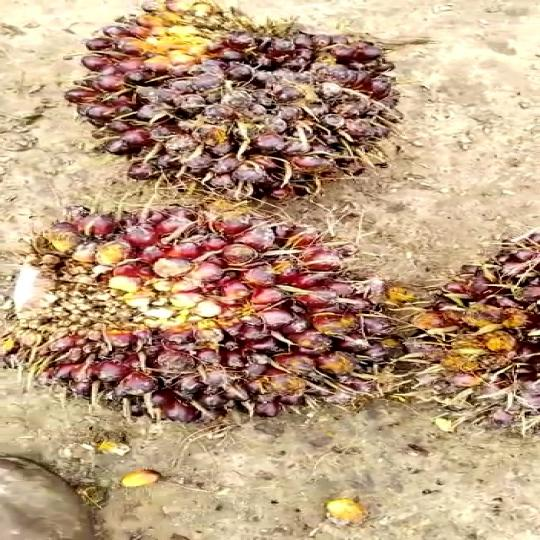kurang masak: (0, 205, 405, 433), (81, 0, 418, 206)
